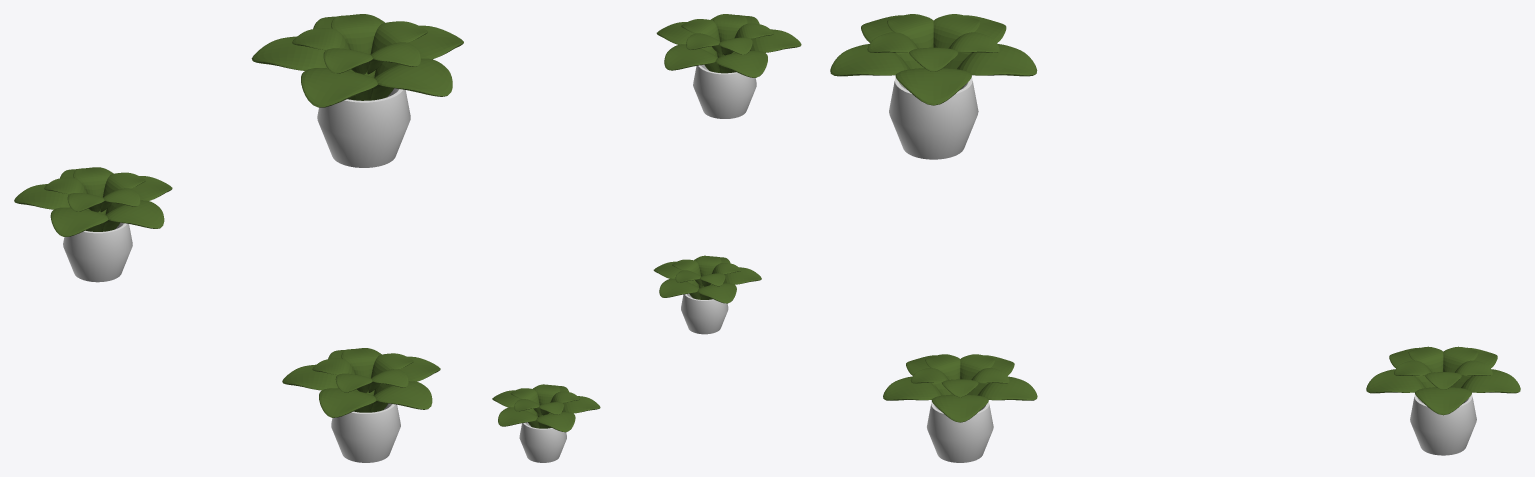
Rendered from pot.fbx.
The picture shows the model from 3 angles, left to right: view 1: azimuth 30°, elevation 25°; view 2: azimuth 150°, elevation 25°; view 3: azimuth 270°, elevation 25°; orthographic projection. The views are drawn at different scales.
Visible parts, largest first — view 1: Cylinder.007, Cylinder.004, Cylinder.006; view 2: Cylinder.007, Cylinder.006, Cylinder.004; view 3: Cylinder.007, Cylinder.006, Cylinder.004.
Part boxes in pixels (left/top/right/bottom): Cylinder.007: left=251, top=14, right=463, bottom=167; Cylinder.004: left=14, top=167, right=172, bottom=282; Cylinder.006: left=282, top=348, right=440, bottom=462; Cylinder.007: left=656, top=14, right=801, bottom=118; Cylinder.006: left=653, top=255, right=761, bottom=334; Cylinder.004: left=492, top=384, right=600, bottom=462; Cylinder.007: left=830, top=14, right=1037, bottom=159; Cylinder.006: left=883, top=354, right=1037, bottom=462; Cylinder.004: left=1366, top=346, right=1520, bottom=455.
Bounding box in the file's own units: 52.53 × 120 × 182.
